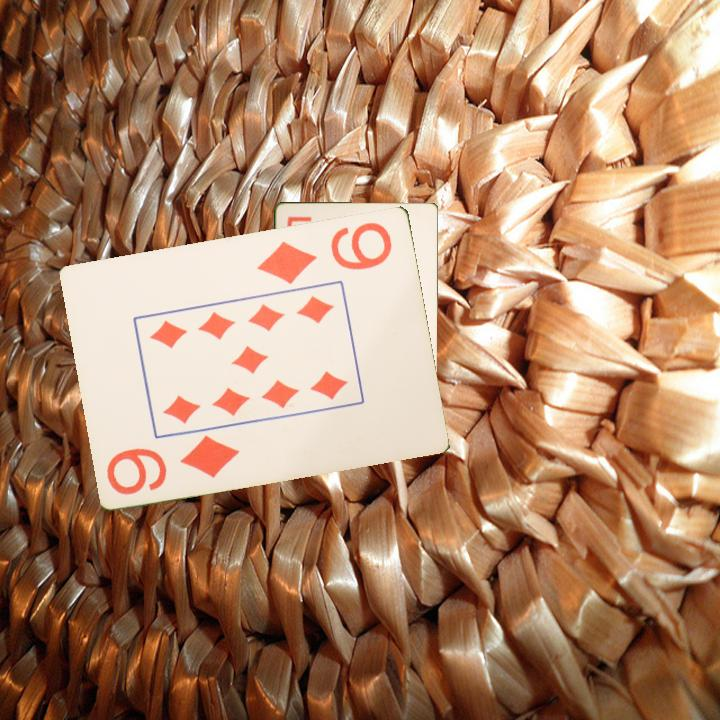9d: (253, 218, 396, 287), (103, 431, 243, 497)
